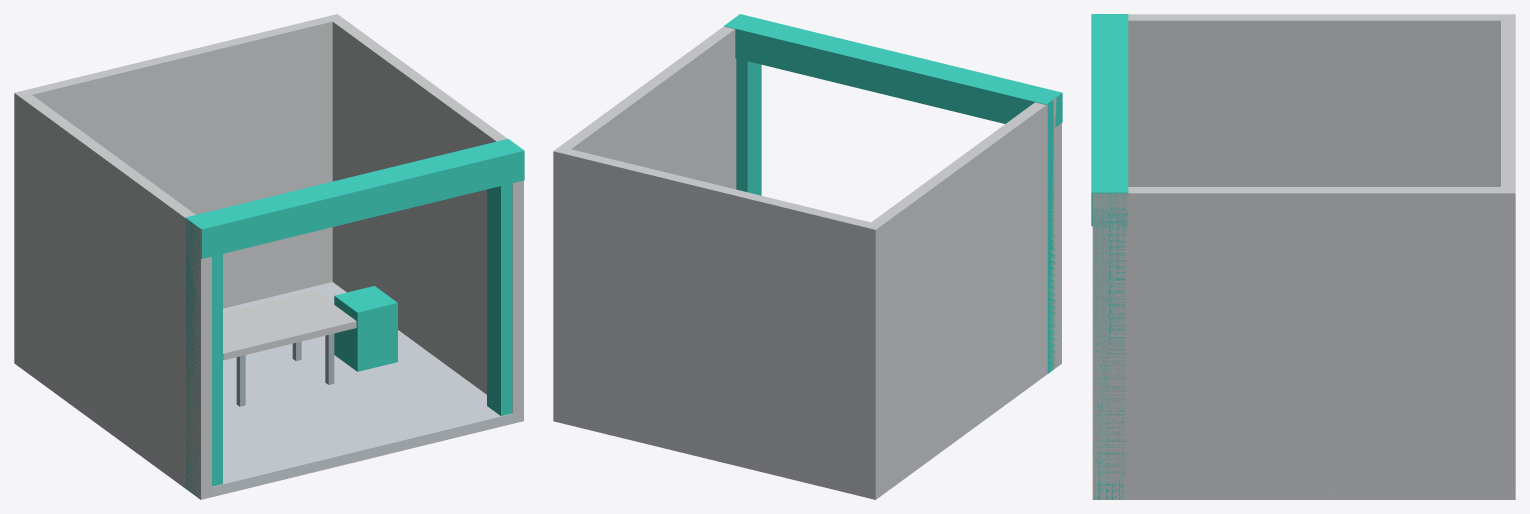
3 renders of one model, left to right at view 1: azimuth 30°, elevation 25°; view 2: azimuth 150°, elevation 25°; view 3: azimuth 270°, elevation 25°, orthographic. The views are drawn at different scales.
Parts seen in each view (by area): view 1: Exhibition Booth Concept; view 2: Exhibition Booth Concept; view 3: Exhibition Booth Concept.
Boxes of the visible parts, x1,y1,x2,y2 form: Exhibition Booth Concept: (14,14,524,499); Exhibition Booth Concept: (553,14,1062,499); Exhibition Booth Concept: (1091,14,1515,499).
Bounding box in the file's own units: 4 × 3.2 × 4.02.
